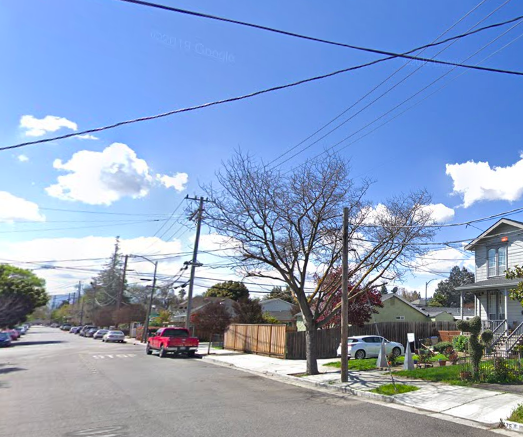tree: (184, 142, 443, 376)
